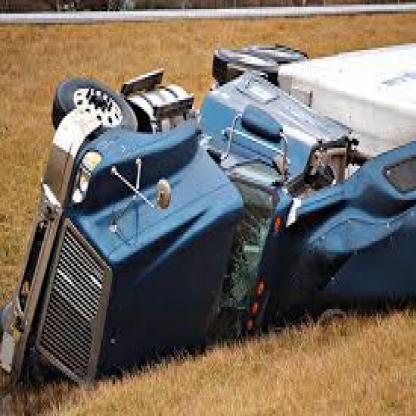accident: (5, 13, 416, 392)
